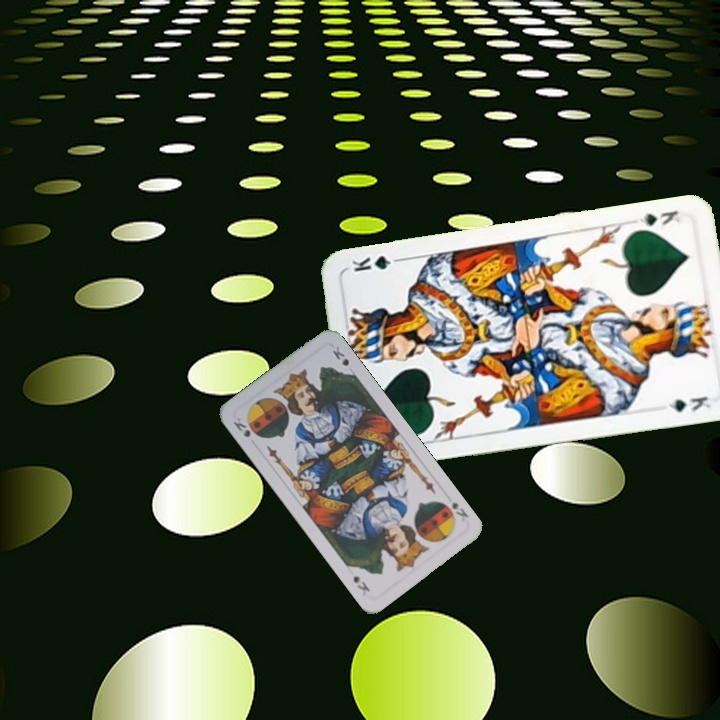GK: (635, 206, 683, 229)
SK: (229, 414, 260, 440), (447, 497, 471, 524)
